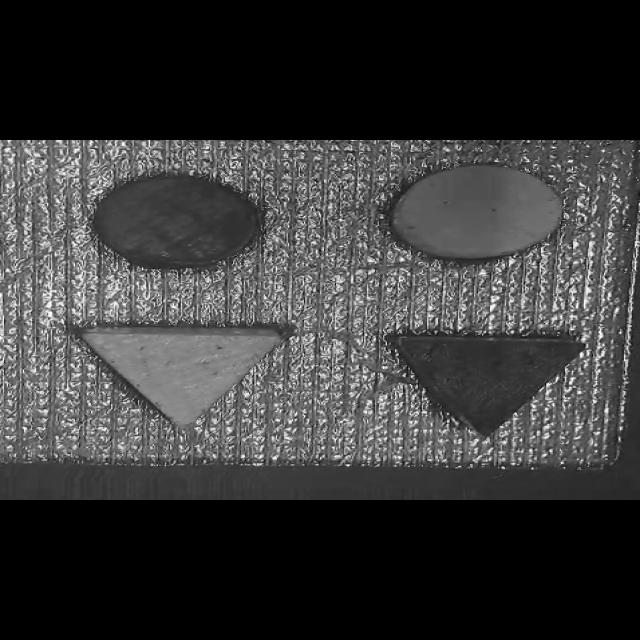btriangle: (380, 310, 598, 452)
rcircle: (76, 162, 273, 287)
ycircle: (360, 161, 592, 269)
ytriangle: (62, 313, 318, 435)
